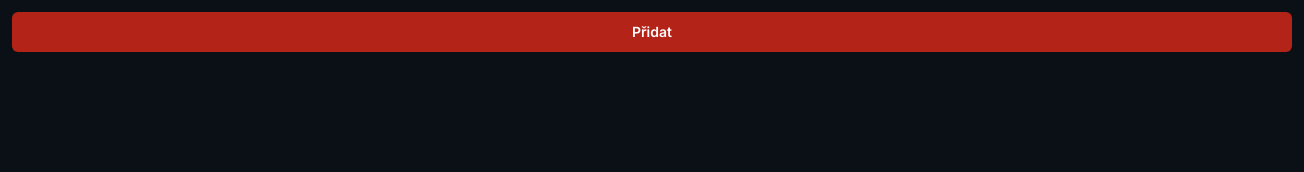
Button – dvojité odeslání › během asynchronního ukládání je tlačítko zablokované
The width and height of the screenshot is (1304, 172).
Click the button. click: click(652, 32)
box: [12,12,1292,52]
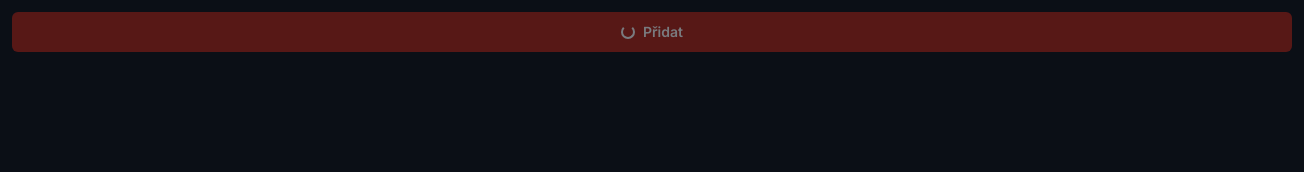
Check: the button is disabled
Click the button. click: click(652, 32)
box: [12,12,1292,52]
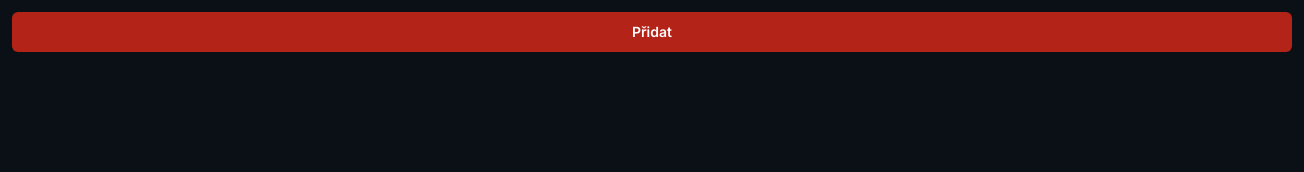
Check: the button is enabled, box [12,12,1292,52]
